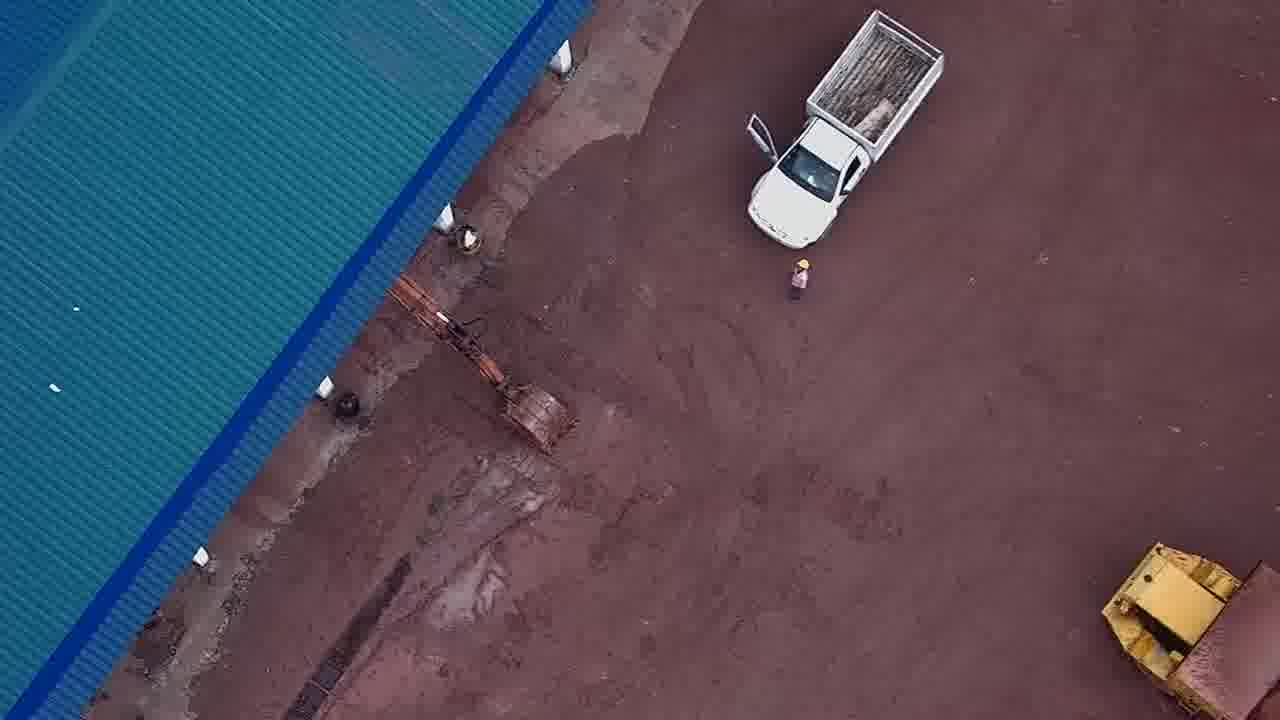light_motor_vehicle: (746, 6, 945, 253)
person: (790, 257, 812, 304)
